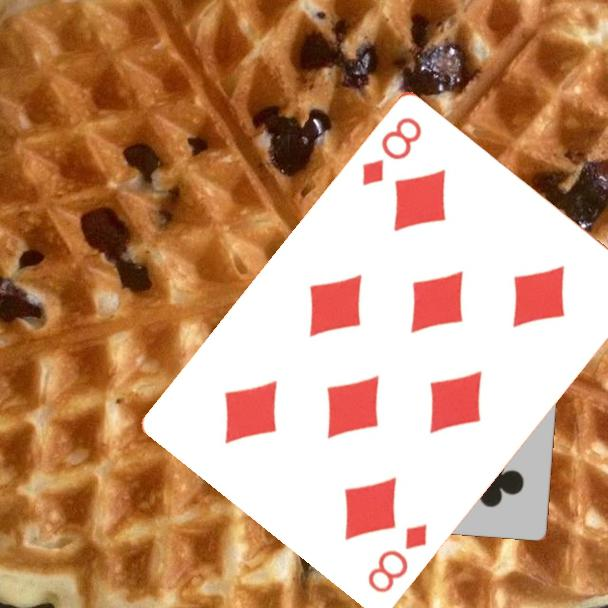d08: (363, 519, 431, 596), (358, 112, 425, 189)
